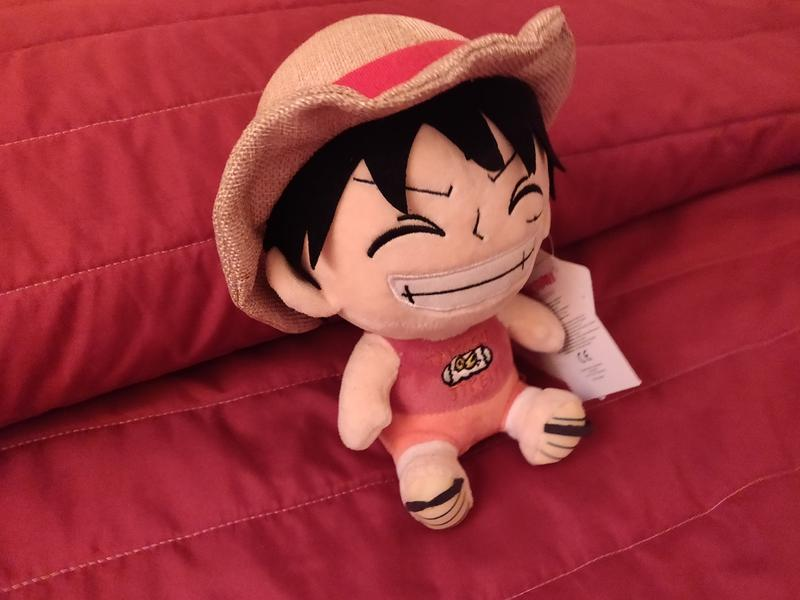rufy: (203, 13, 640, 529)
